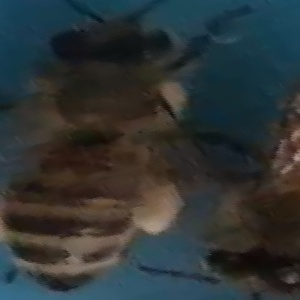bee: (7, 4, 207, 298)
